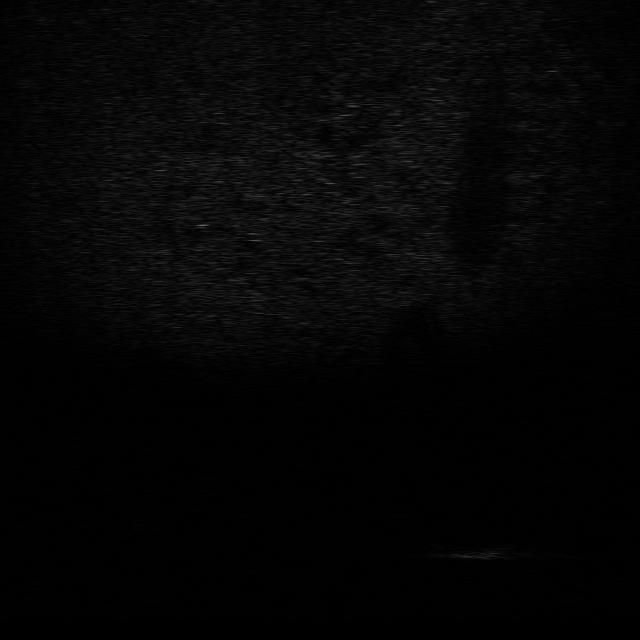ball: (116, 501, 170, 531)
metal bucket: (438, 540, 522, 564)
tyre: (380, 494, 440, 532)
